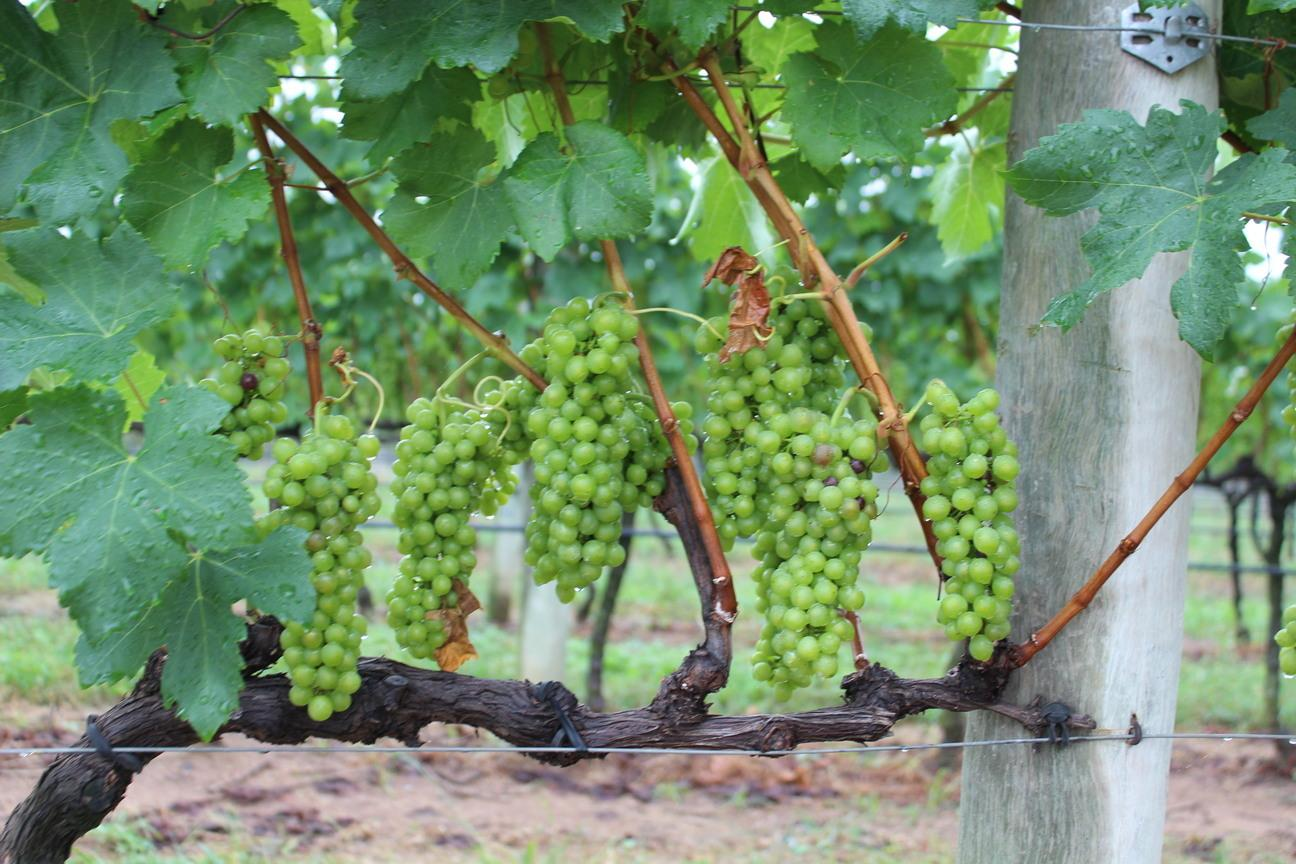leaf: (1005, 101, 1295, 357), (0, 384, 254, 638), (76, 526, 313, 738), (0, 0, 180, 221), (0, 225, 175, 387), (342, 0, 623, 98), (782, 21, 954, 168), (120, 118, 267, 268), (381, 126, 511, 286), (504, 121, 652, 260), (173, 4, 299, 124), (342, 67, 479, 163), (929, 139, 1004, 259), (841, 0, 977, 40), (635, 0, 729, 51), (204, 1, 234, 18)
